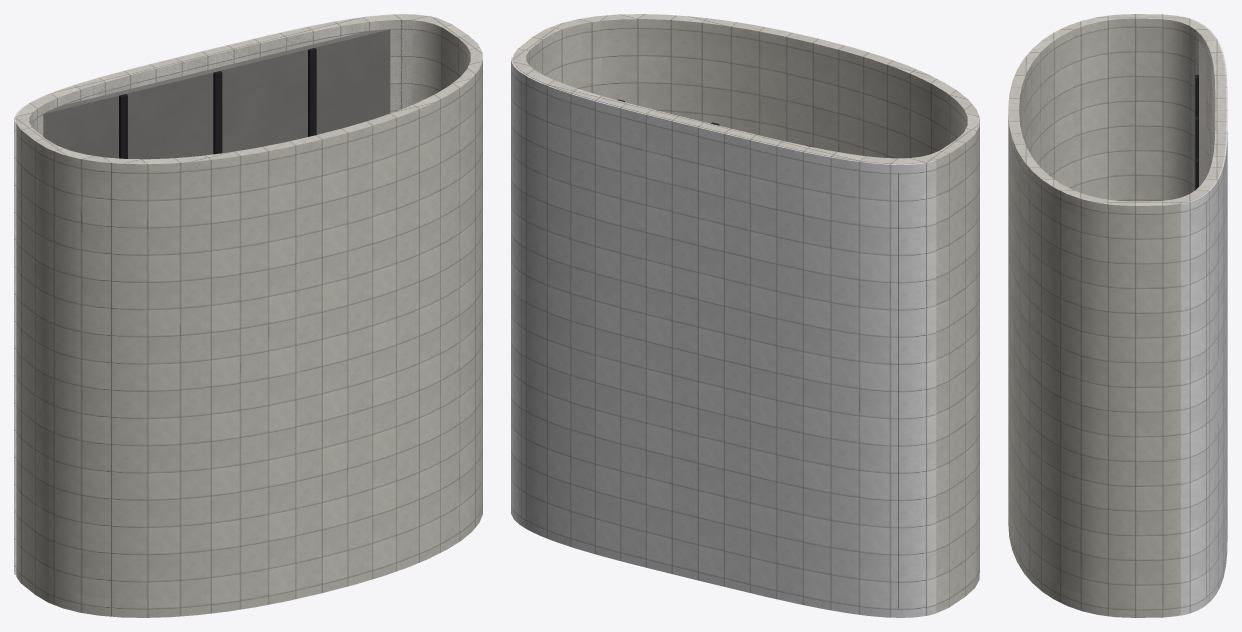
File: aero03_cargo_bay_mk2_250.glb
3 renders of one model, left to right at view 1: azimuth 30°, elevation 25°; view 2: azimuth 150°, elevation 25°; view 3: azimuth 270°, elevation 25°, orthographic. The views are drawn at different scales.
Visible parts, largest first — view 1: door_l, door_r, fuselage, cargo_floor, belly_tiles, floor_rails; view 2: belly_tiles, fuselage, door_r, door_l, cargo_floor; view 3: fuselage, door_r, belly_tiles, door_l, cargo_floor, floor_rails.
Boxes of the visible parts, box(x1,y1,x2,y2) form: door_l: box(71, 158, 321, 599); door_r: box(322, 79, 482, 574); fuselage: box(16, 14, 482, 617); cargo_floor: box(43, 29, 390, 159); belly_tiles: box(14, 14, 439, 574); floor_rails: box(119, 48, 316, 158); belly_tiles: box(511, 57, 936, 617); fuselage: box(513, 14, 979, 612); door_r: box(580, 37, 812, 146); door_l: box(813, 61, 979, 554); cargo_floor: box(521, 82, 898, 609); fuselage: box(1008, 14, 1226, 617); door_r: box(1008, 131, 1089, 596); belly_tiles: box(1181, 16, 1227, 615); door_l: box(1019, 40, 1089, 195); cargo_floor: box(1199, 41, 1206, 596); floor_rails: box(1195, 75, 1198, 189).
Bounding box in the file's own units: 2.5 × 2.5 × 1.21.
4 materials, 3 textured.
